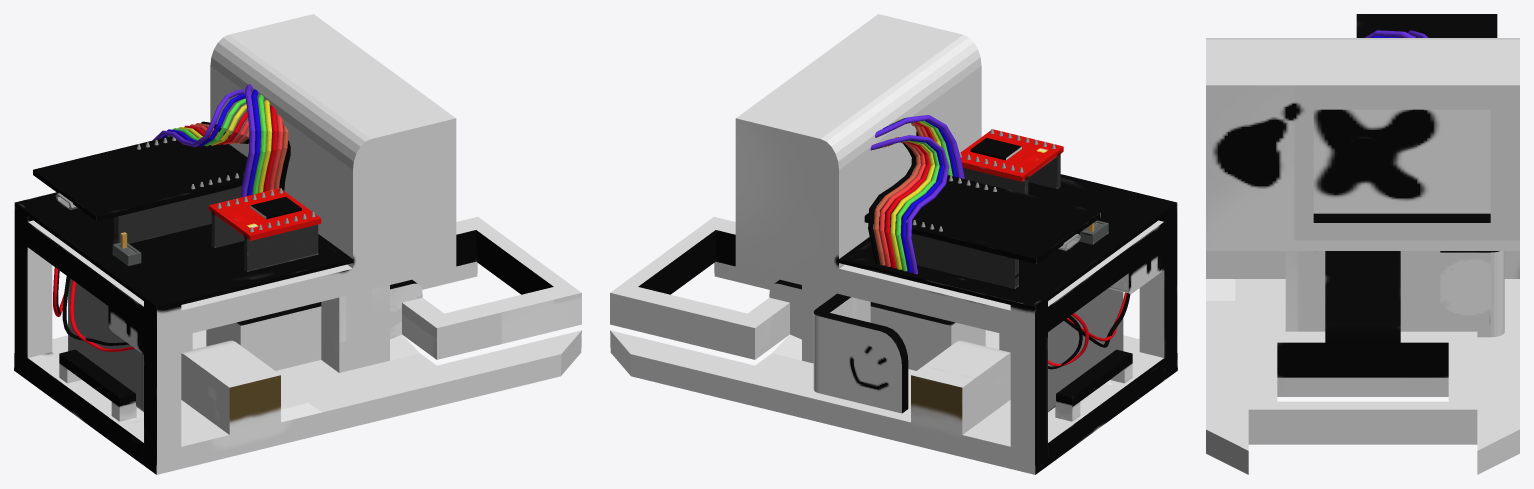
The model's file is TuFu.glb.
3 renders of one model, left to right at view 1: azimuth 30°, elevation 25°; view 2: azimuth 150°, elevation 25°; view 3: azimuth 270°, elevation 25°, orthographic. The views are drawn at different scales.
Visible parts, largest first — view 1: Tufu; view 2: Tufu; view 3: Tufu.
Boxes of the visible parts, x1,y1,x2,y2 form: Tufu: [14, 14, 581, 474]; Tufu: [610, 14, 1177, 474]; Tufu: [1206, 14, 1519, 474].
Bounding box in the file's own units: 7.47 × 4.46 × 4.06.
Materials: 12 (1 with a texture image).
